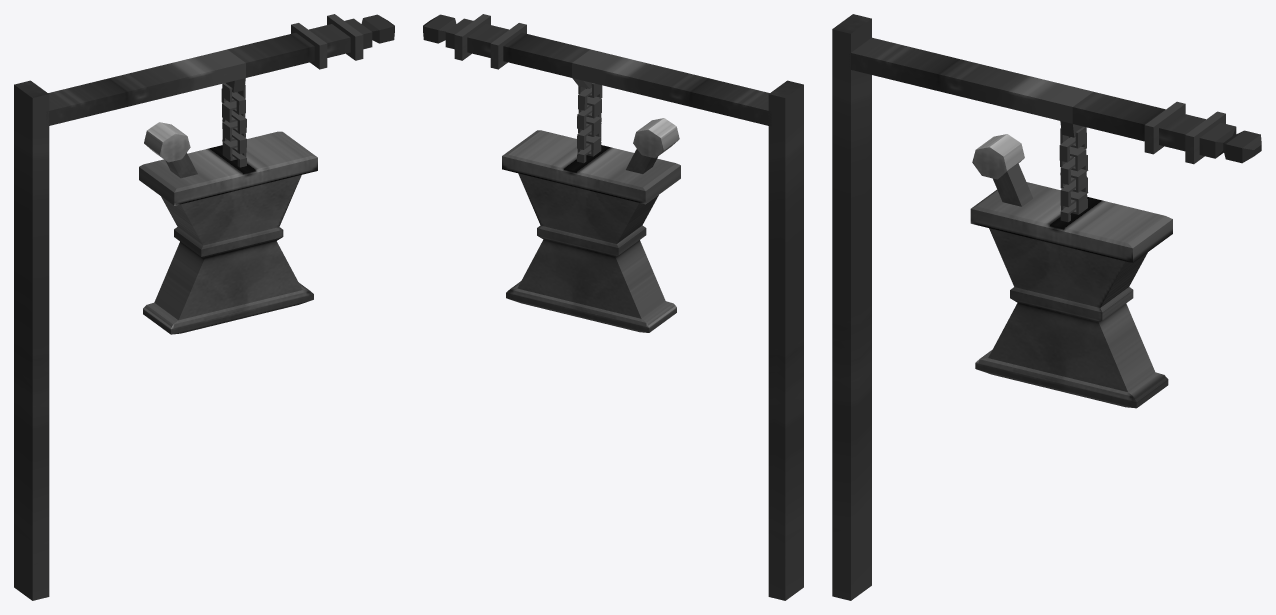
Rendered from sign_360x00.obj.
3 renders of one model, left to right at view 1: azimuth 30°, elevation 25°; view 2: azimuth 150°, elevation 25°; view 3: azimuth 330°, elevation 25°, orthographic. The views are drawn at different scales.
Visible parts, largest first — view 1: Sign_360x0; view 2: Sign_360x0; view 3: Sign_360x0.
Boxes of the visible parts, x1,y1,x2,y2 form: Sign_360x0: [14, 14, 394, 600]; Sign_360x0: [423, 14, 803, 600]; Sign_360x0: [832, 14, 1261, 600].
Size of the model in its own units: 2.96 by 3.86 by 0.4935.
